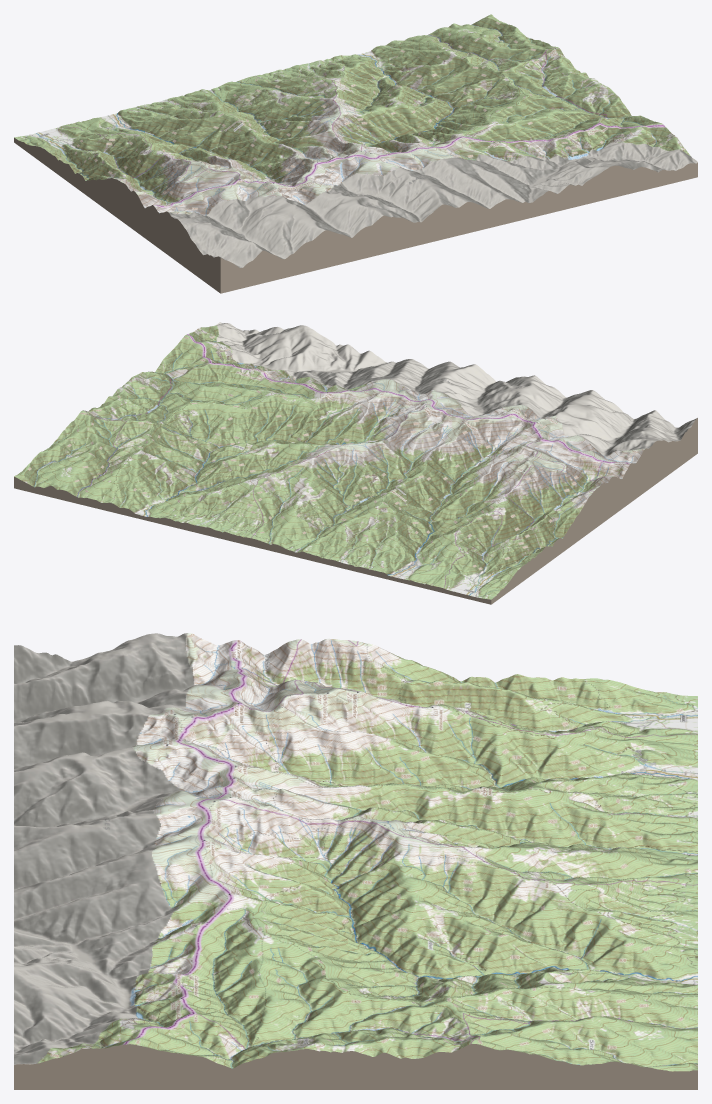
3 views of the same model, one above another, from view 1: azimuth 30°, elevation 25°; view 2: azimuth 150°, elevation 25°; view 3: azimuth 270°, elevation 25° (orthographic). The views are drawn at different scales.
Visible parts, largest first — view 1: BV50-E2 Berivoiul Mare; view 2: BV50-E2 Berivoiul Mare; view 3: BV50-E2 Berivoiul Mare.
Part boxes in pixels (<box>): BV50-E2 Berivoiul Mare: <box>14,14,697,293</box>; BV50-E2 Berivoiul Mare: <box>14,322,697,604</box>; BV50-E2 Berivoiul Mare: <box>14,633,697,1089</box>.
Bounding box in the file's own units: 20000 × 1790 × 15000.
5 materials, 1 textured.
